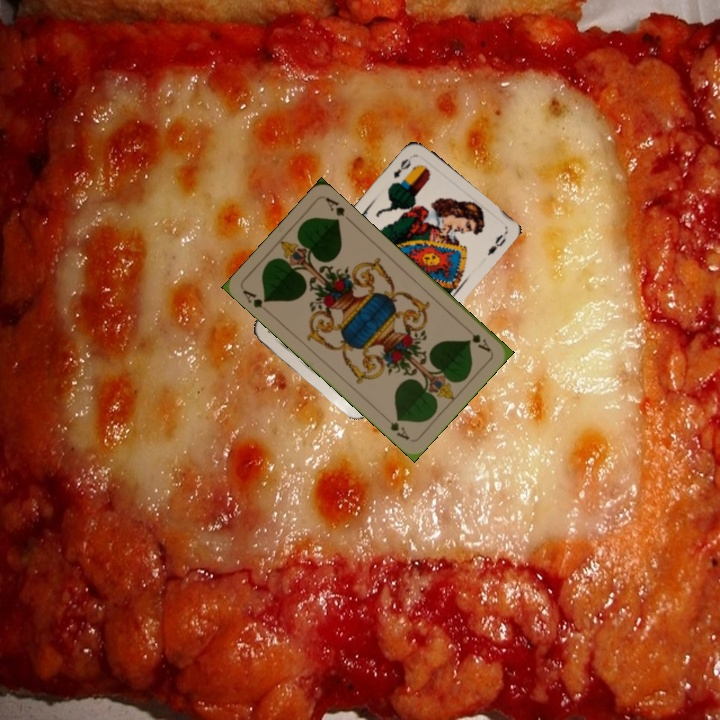EO: (389, 151, 417, 181)
GA: (461, 322, 493, 354), (238, 286, 271, 311)
